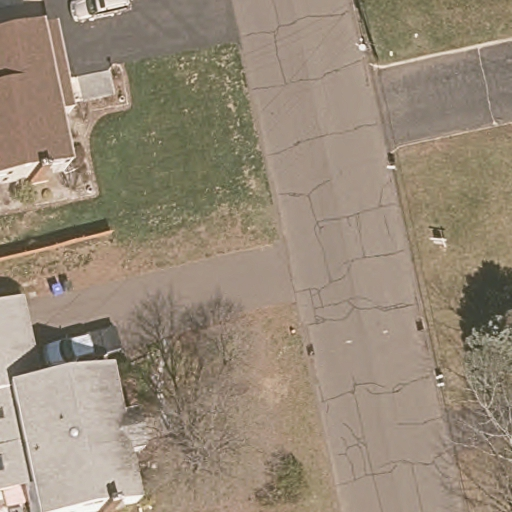DT: (353, 35, 375, 64)
